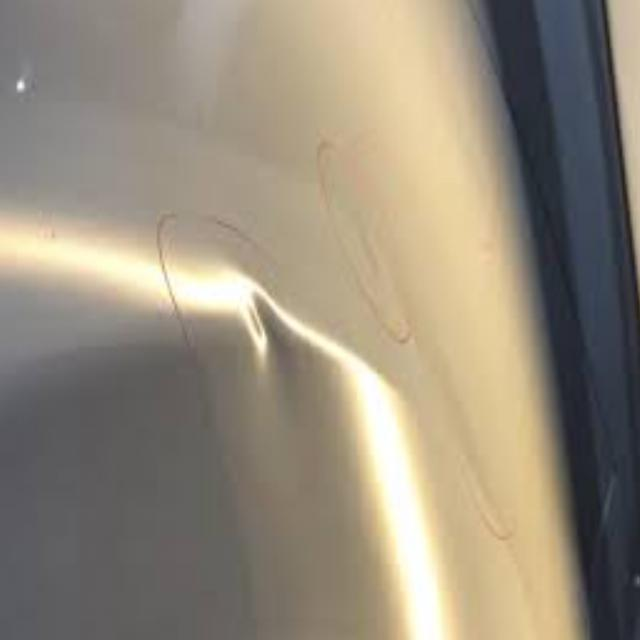dents: (221, 260, 299, 378)
